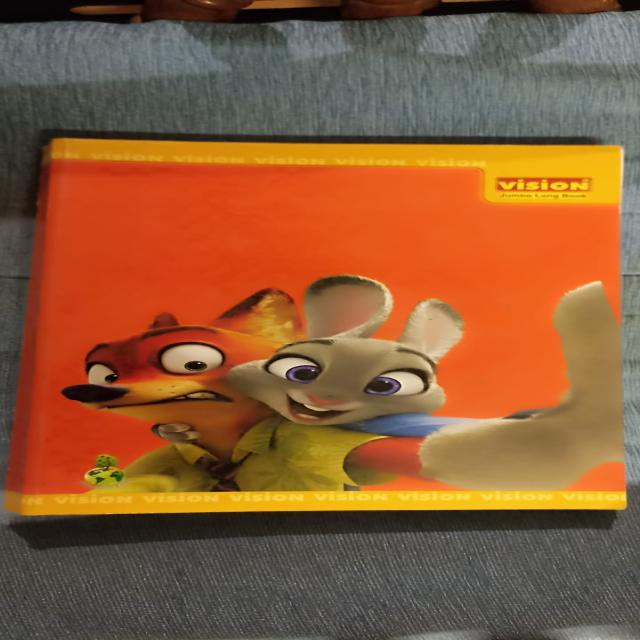book: (7, 128, 624, 518)
